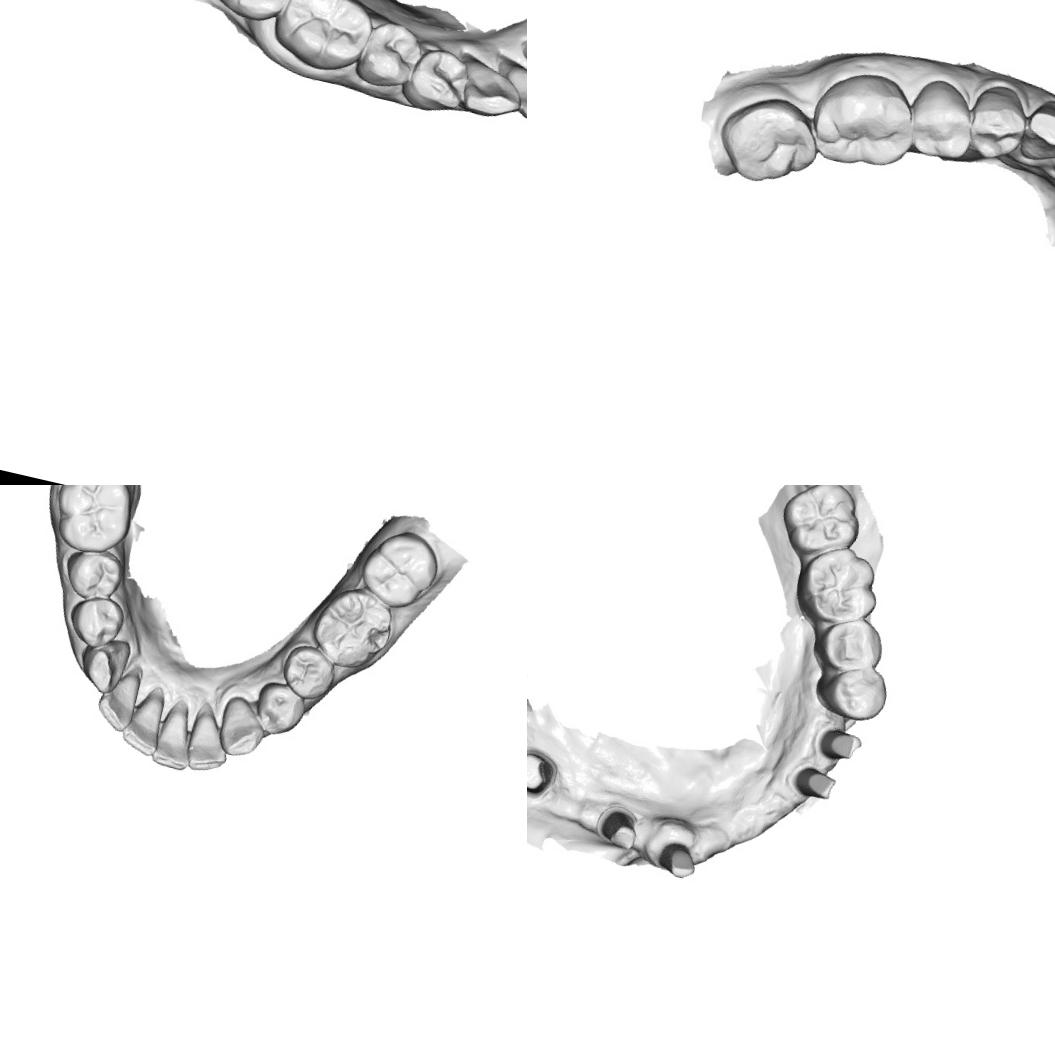abutment: (591, 803, 646, 856), (784, 759, 842, 808), (653, 834, 704, 886), (812, 721, 868, 768), (527, 744, 559, 801)
canine: (452, 51, 527, 125), (212, 691, 272, 762), (74, 632, 134, 698), (1014, 93, 1055, 174)
incisor: (182, 698, 238, 777), (150, 694, 202, 773), (118, 683, 170, 758), (93, 664, 143, 733), (502, 58, 527, 129)
molar: (804, 62, 924, 178), (716, 83, 834, 198), (790, 536, 888, 634), (304, 578, 400, 676), (266, 0, 378, 80), (773, 485, 871, 565), (45, 485, 142, 561), (356, 522, 440, 605), (200, 0, 302, 30)
premolar: (898, 74, 985, 166), (962, 79, 1034, 168), (809, 658, 894, 731), (352, 15, 428, 94), (399, 43, 474, 120), (808, 610, 889, 680), (57, 540, 128, 606), (64, 589, 130, 654), (276, 640, 340, 705), (249, 677, 310, 742)
